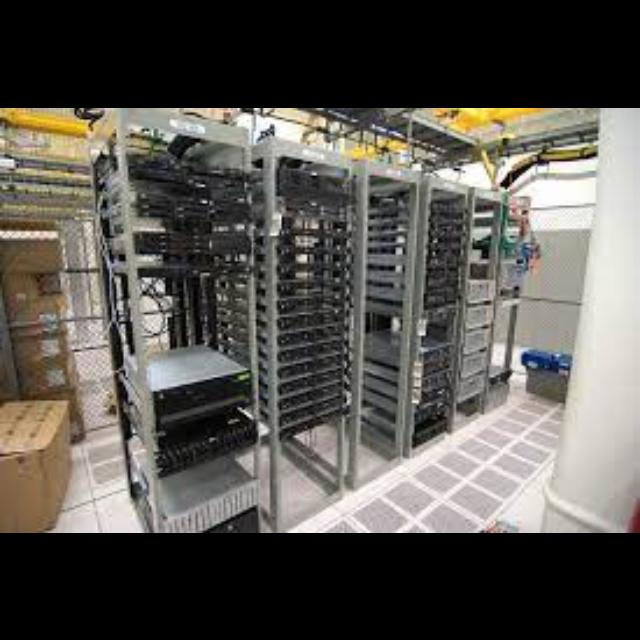Server: (264, 137, 360, 506)
